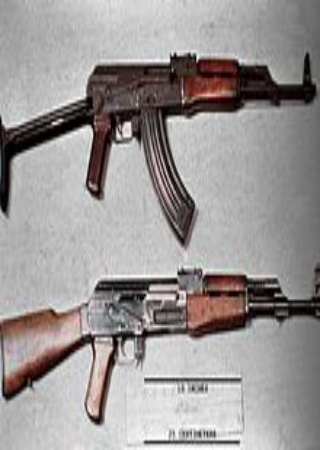rifle: (1, 38, 319, 242), (2, 254, 320, 424)
